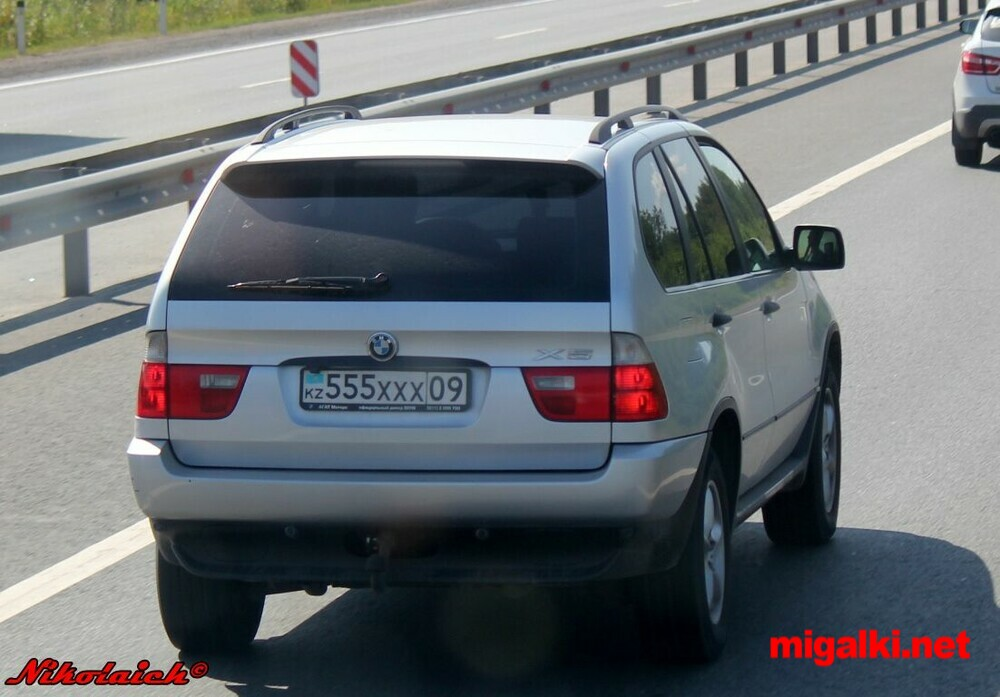license_plate: (300, 370, 470, 406)
